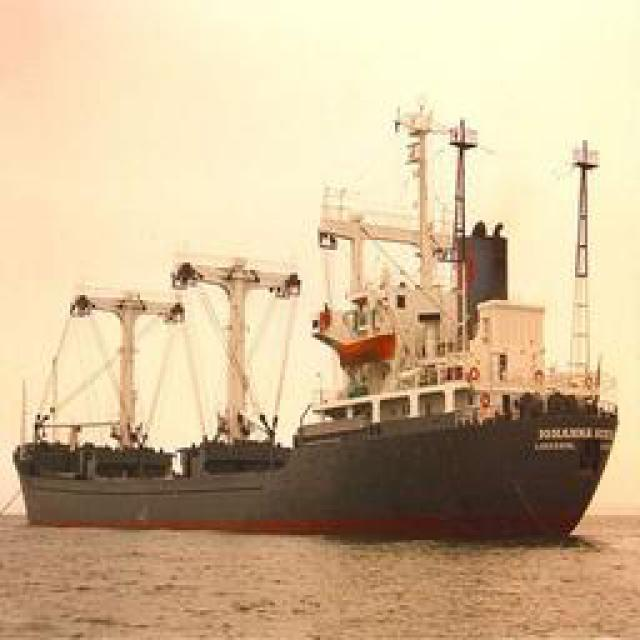Ship: (11, 396, 626, 546)
